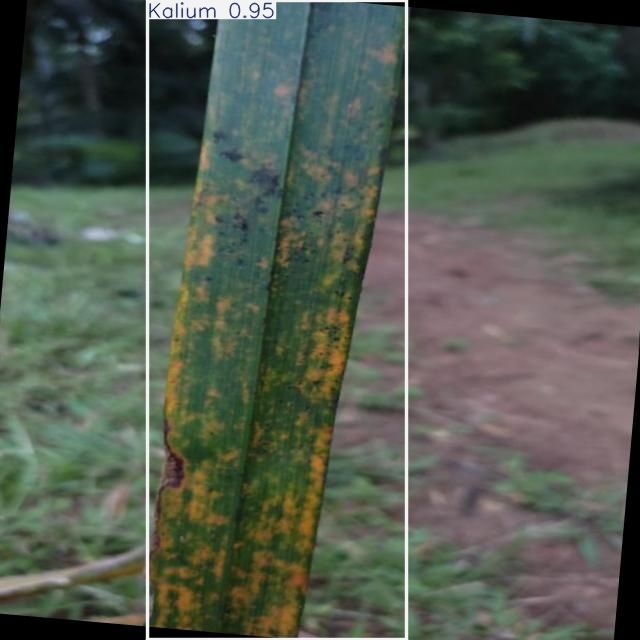Kalium: (148, 0, 406, 640)
